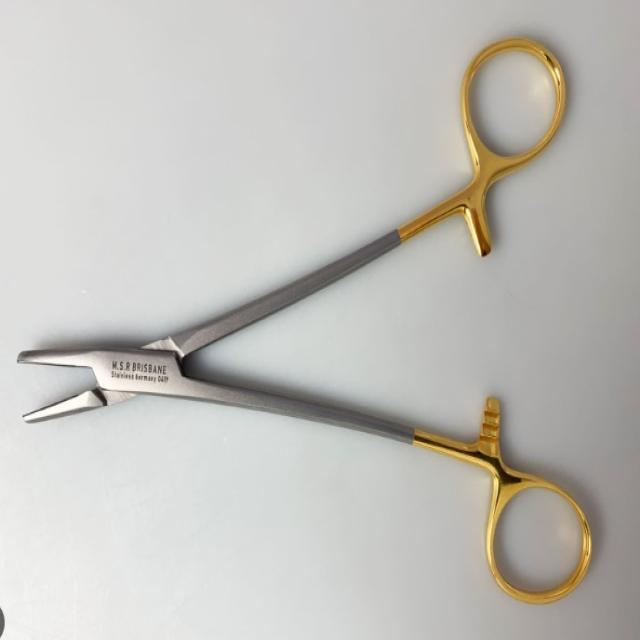Needle Holder: (11, 31, 597, 616)
